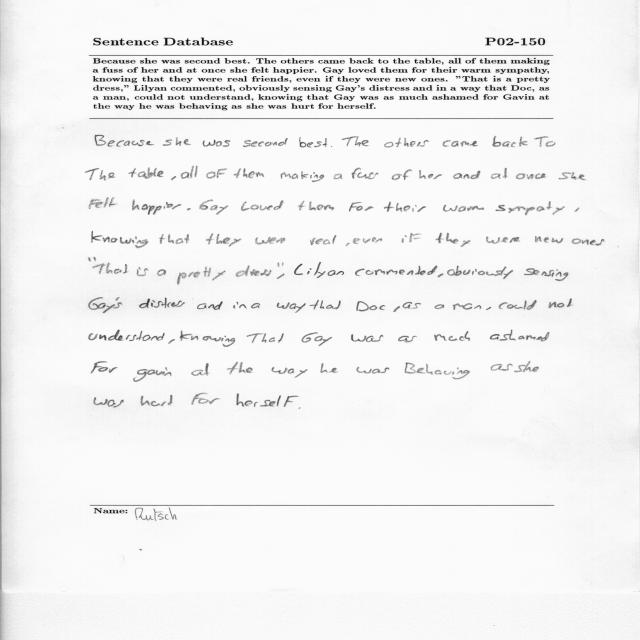word: (405, 363, 470, 380), (495, 202, 565, 216), (92, 231, 149, 248), (180, 330, 235, 347), (89, 298, 150, 313), (177, 267, 226, 285), (236, 393, 299, 407), (447, 266, 513, 279), (89, 330, 165, 341), (355, 266, 438, 276), (95, 135, 154, 147), (490, 330, 549, 342), (492, 136, 556, 147), (307, 262, 344, 278), (93, 258, 129, 274), (524, 268, 568, 281), (133, 367, 171, 382), (516, 172, 585, 180), (142, 202, 182, 215), (206, 233, 241, 247), (281, 171, 324, 182), (241, 200, 284, 211), (200, 199, 229, 215), (384, 201, 426, 212), (384, 138, 429, 148), (128, 167, 164, 179), (236, 265, 272, 277), (302, 332, 332, 346), (243, 138, 288, 147), (272, 367, 308, 378), (499, 300, 537, 310), (151, 297, 185, 308), (247, 333, 284, 343), (140, 395, 173, 406), (298, 201, 334, 211), (434, 331, 470, 341), (191, 393, 220, 405), (227, 362, 253, 375), (94, 397, 124, 408), (352, 168, 379, 180), (346, 238, 382, 247), (91, 362, 118, 374), (277, 302, 306, 313), (357, 301, 386, 312), (310, 300, 341, 310), (300, 137, 328, 148), (89, 198, 117, 209), (234, 168, 264, 178), (160, 234, 190, 244), (342, 136, 369, 147), (443, 205, 484, 212), (514, 362, 539, 373), (310, 235, 336, 245), (351, 334, 383, 342), (436, 233, 459, 244), (163, 137, 191, 146), (191, 363, 210, 376), (443, 140, 478, 147), (349, 202, 373, 212), (255, 237, 285, 245), (549, 298, 573, 308), (197, 301, 223, 310), (206, 168, 227, 179), (357, 367, 390, 374), (535, 236, 563, 244), (181, 166, 198, 179), (392, 169, 412, 180), (203, 139, 230, 147), (453, 171, 480, 179), (402, 232, 421, 243), (419, 170, 442, 179), (453, 303, 481, 310), (99, 170, 116, 181), (321, 363, 339, 373), (491, 168, 507, 179), (86, 168, 100, 180), (572, 238, 596, 245), (491, 364, 513, 371), (277, 262, 285, 279), (398, 336, 417, 343), (403, 302, 421, 309), (501, 237, 520, 243), (486, 236, 500, 244), (294, 263, 303, 275), (137, 267, 148, 276), (233, 302, 247, 309), (132, 200, 139, 211), (461, 240, 471, 247), (595, 239, 605, 246), (157, 269, 166, 276), (435, 304, 445, 309), (334, 174, 343, 179), (251, 303, 260, 308), (393, 306, 400, 312), (168, 339, 175, 344), (438, 273, 444, 278), (575, 207, 580, 212), (171, 176, 176, 180), (486, 307, 491, 310), (89, 257, 91, 262), (187, 208, 191, 210), (298, 407, 301, 409), (331, 146, 332, 147)
